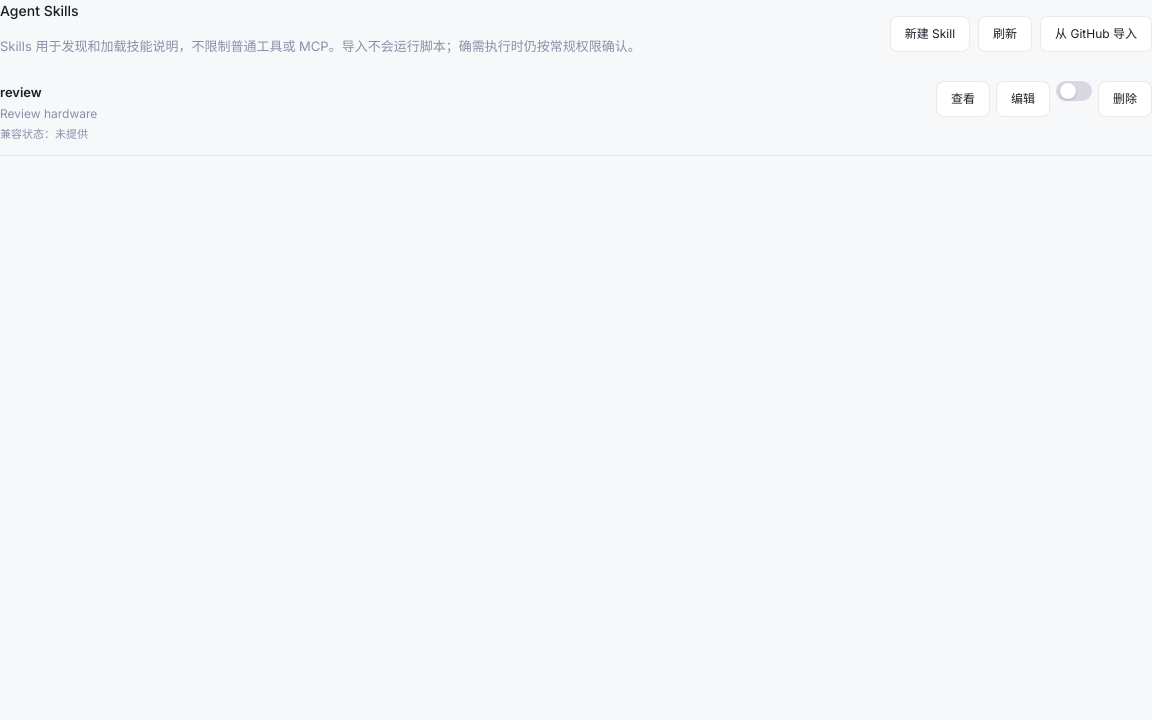
SkillsManager › keeps the edited Markdown draft open when saving fails
The image size is (1152, 720).
Expected: the text "Review hardware" is shown, [0, 105, 97, 123]
Click the button "编辑" at (1023, 98), box [996, 80, 1050, 116]
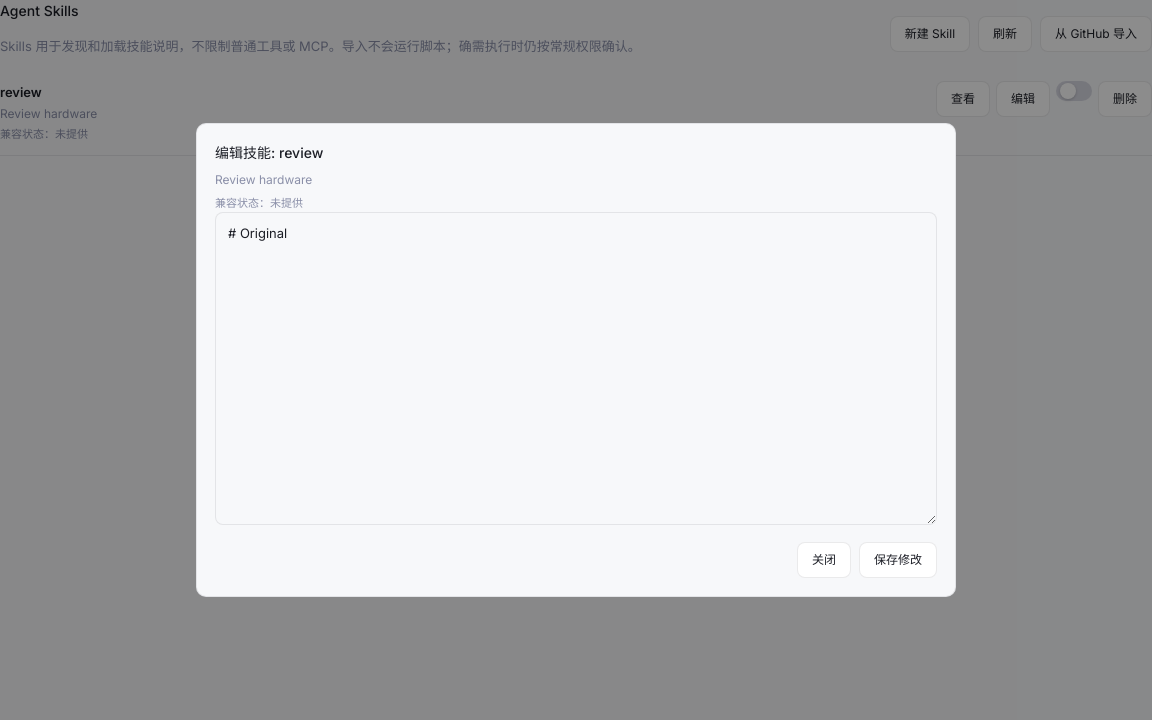
Replace the text in the text box named "技能 Markdown 内容" with "# User draft" at (576, 368), box [215, 212, 937, 525]
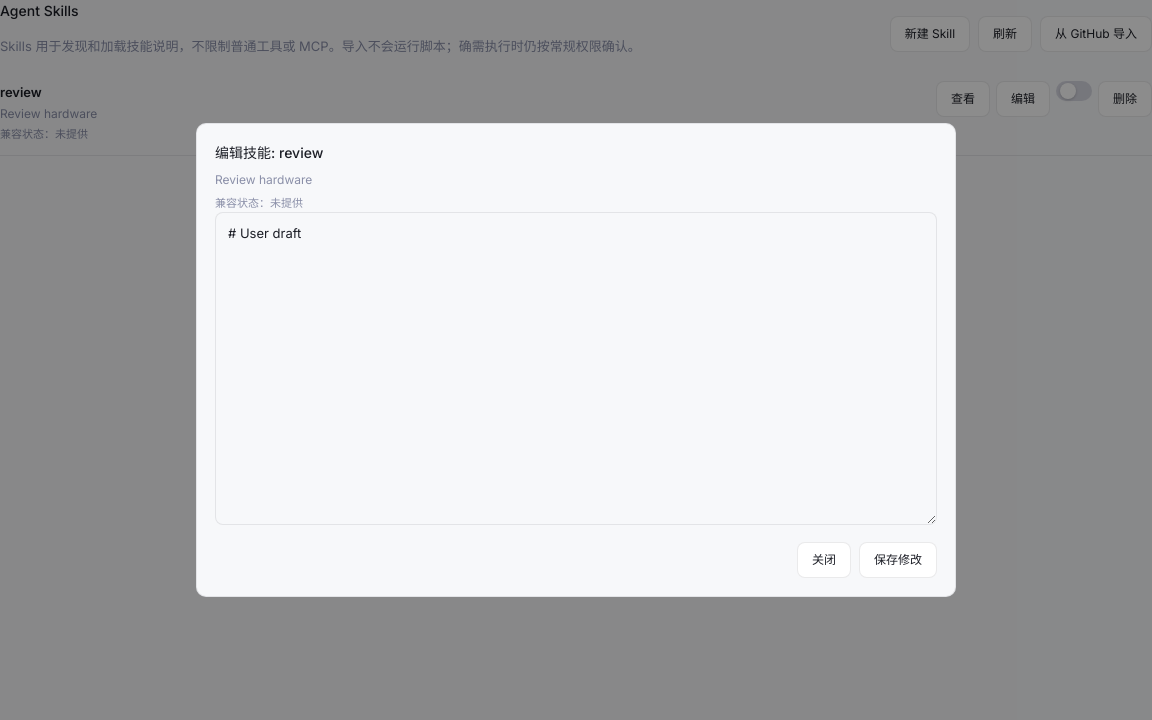
Click the button "保存修改" at (898, 560), box [859, 542, 937, 578]
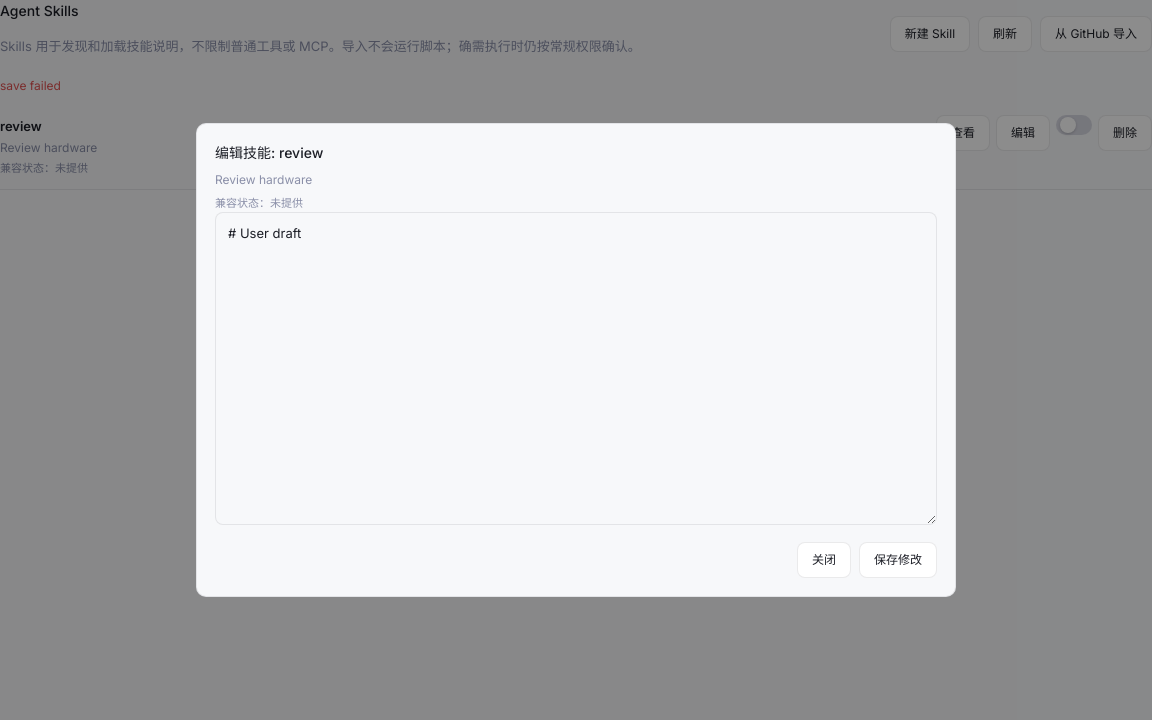
Expected: the dialog is shown
Expected: the text "save failed" is shown, [0, 78, 61, 92]
